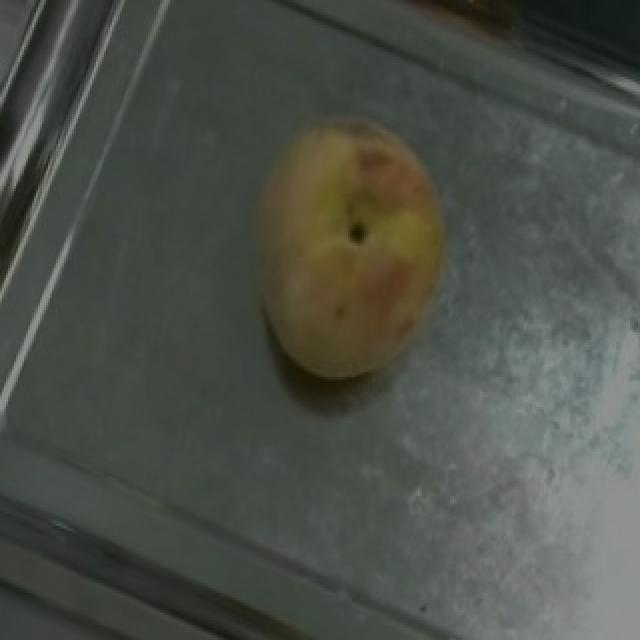Fruit: (200, 74, 500, 420)
